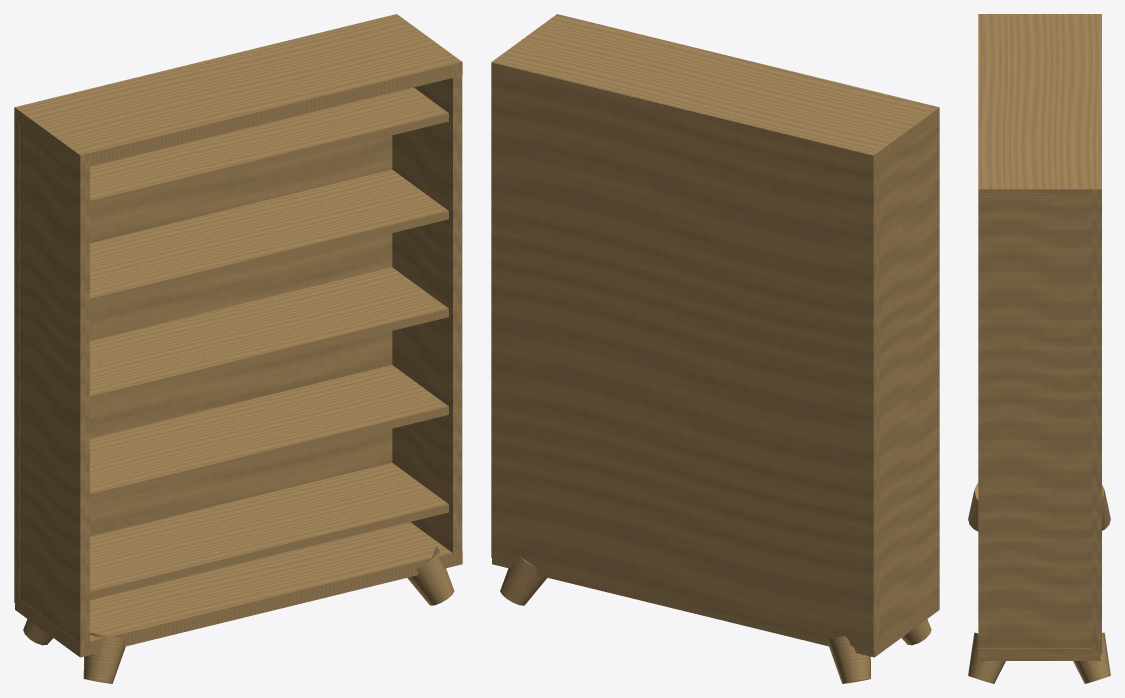
The model's file is bookcase_veranda-164cffe38671.glb.
3 views of the same model, side by side, from view 1: azimuth 30°, elevation 25°; view 2: azimuth 150°, elevation 25°; view 3: azimuth 270°, elevation 25° (orthographic). The views are drawn at different scales.
Parts seen in each view (by area): view 1: surface_bamboo; view 2: surface_bamboo; view 3: surface_bamboo.
Part boxes in pixels (x1=…): surface_bamboo: x1=14, y1=14, x2=462, y2=683; surface_bamboo: x1=491, y1=14, x2=939, y2=683; surface_bamboo: x1=968, y1=14, x2=1110, y2=683.
Size of the model in its own units: 1.15 by 1.55 by 0.3965.
1 material, 1 textured.
